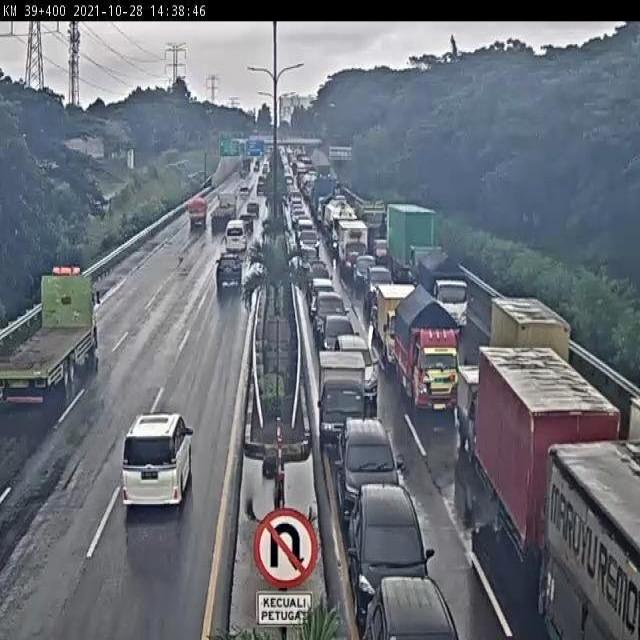big truck: (479, 345, 626, 595), (1, 268, 101, 407), (383, 203, 433, 281), (209, 191, 237, 236)
car: (349, 486, 436, 618), (335, 418, 399, 530), (121, 411, 194, 506), (363, 577, 460, 640), (335, 336, 380, 403), (319, 315, 360, 369), (312, 290, 350, 342), (215, 252, 243, 296), (367, 265, 395, 308), (309, 276, 334, 316), (355, 255, 376, 288), (236, 215, 254, 236), (244, 207, 260, 225)
small bus: (224, 219, 246, 252)
small truck: (393, 287, 462, 416), (488, 295, 567, 404), (458, 365, 521, 468), (317, 348, 369, 449), (418, 250, 467, 330), (377, 283, 420, 369), (339, 220, 369, 276), (187, 195, 209, 232)
